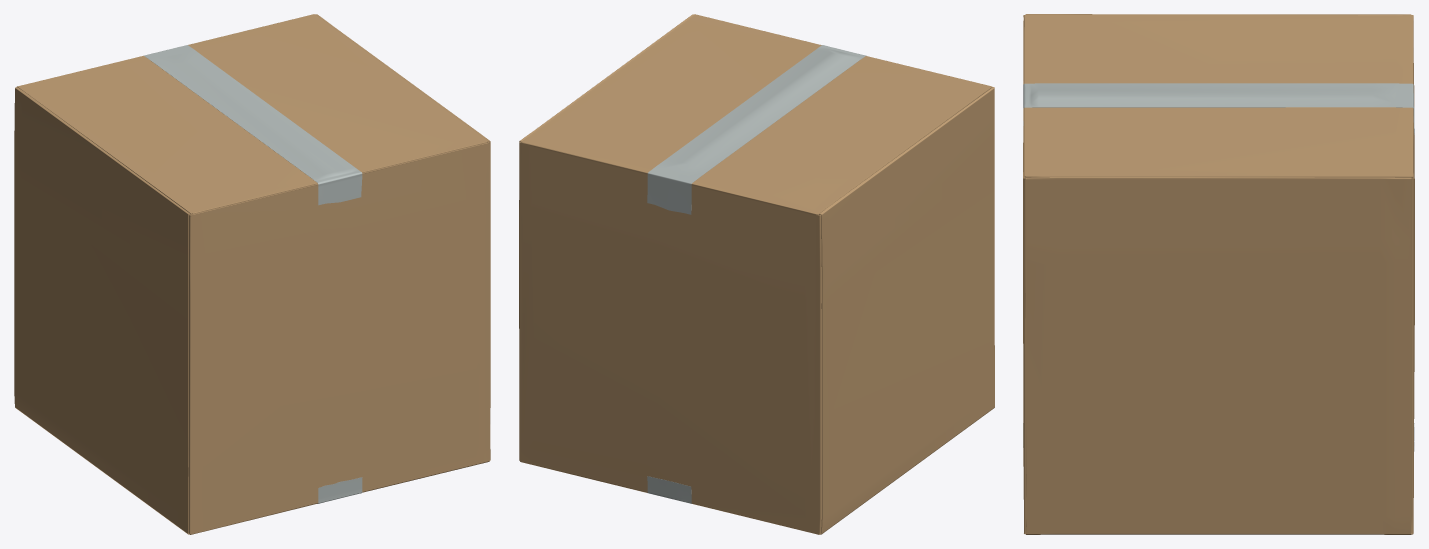
The picture shows the model from 3 angles, left to right: view 1: azimuth 30°, elevation 25°; view 2: azimuth 150°, elevation 25°; view 3: azimuth 270°, elevation 25°; orthographic projection. The views are drawn at different scales.
Bounding box in the file's own units: 0.4132 × 0.4177 × 0.4136.
